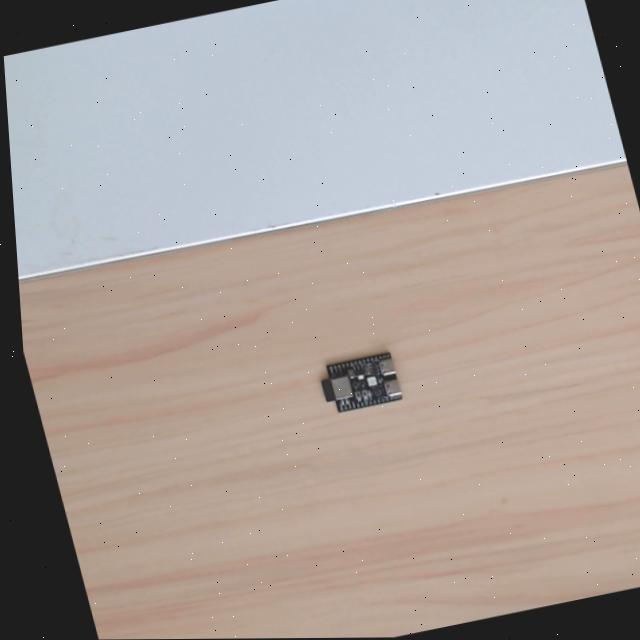ESP32C3-DevKit: (317, 347, 405, 419)
